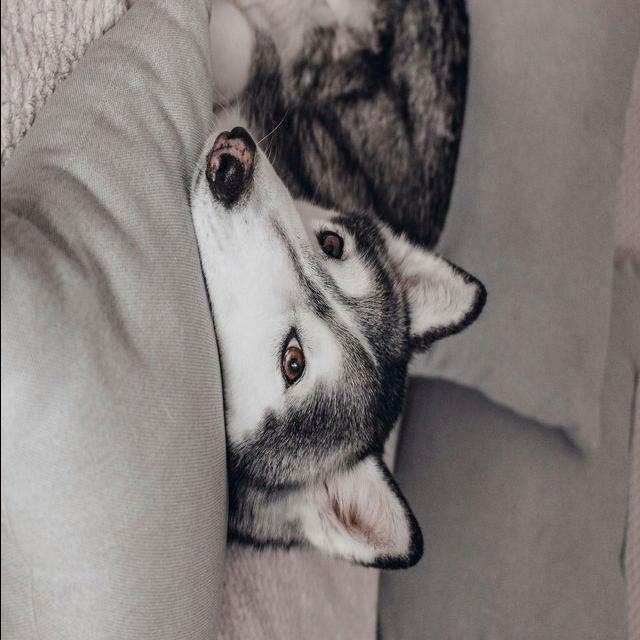husky: (187, 2, 489, 574)
